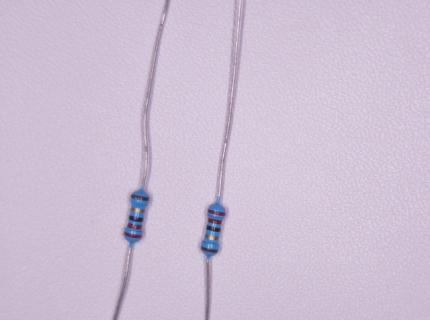Black band: (207, 225, 221, 232), (129, 216, 144, 222)
Brown band: (200, 246, 219, 253), (131, 194, 149, 201)
Gold band: (204, 234, 219, 240), (131, 208, 145, 213)
Red band: (124, 231, 142, 238), (207, 210, 226, 216), (127, 223, 142, 229), (208, 218, 222, 224)
